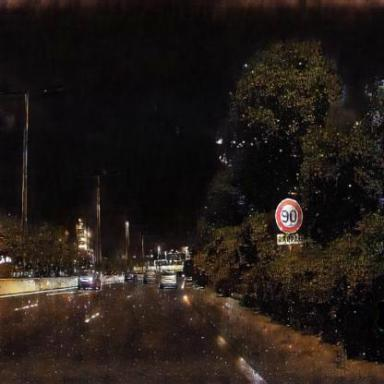Speed_limit_90: (276, 199, 303, 234)
